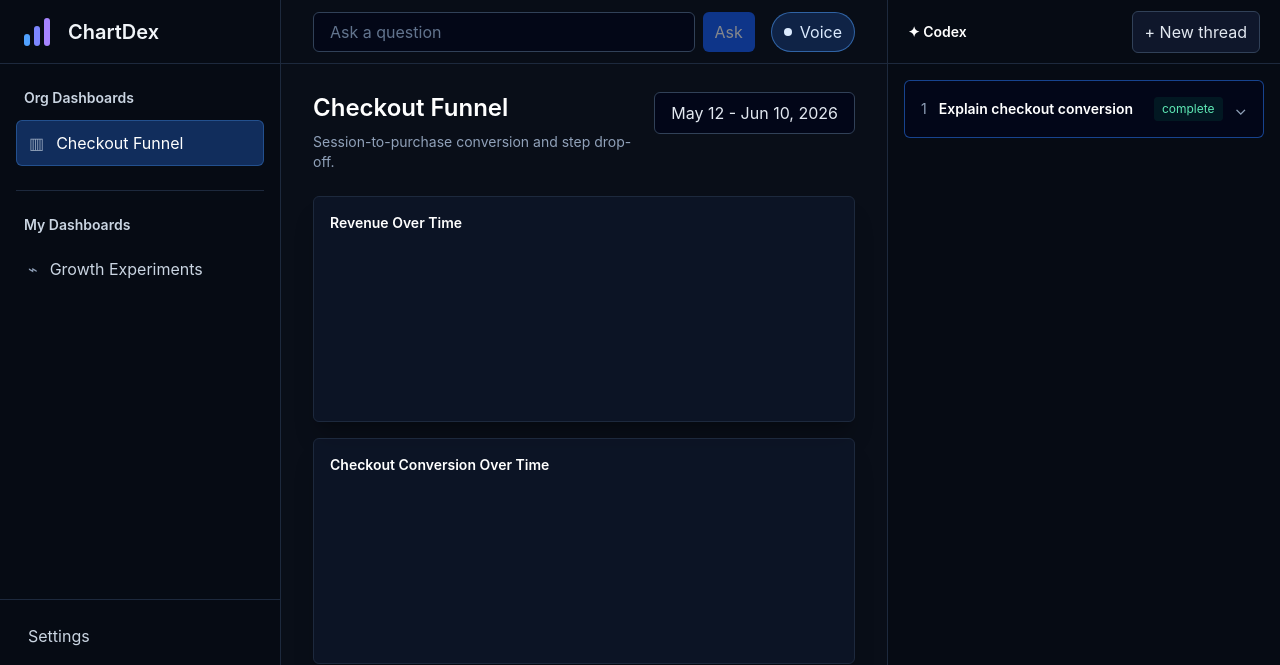
Test: App › renders the authenticated dashboard shell with Codex threads closed by default
Check: the heading "Checkout Funnel" is shown, box [313,93,508,122]
Check: the heading "Org Dashboards" is shown, box [24,89,134,106]
Step 1. Click the button "1 Explain checkout conversion complete ⌄" → point(1084, 109), box [905,81,1263,137]
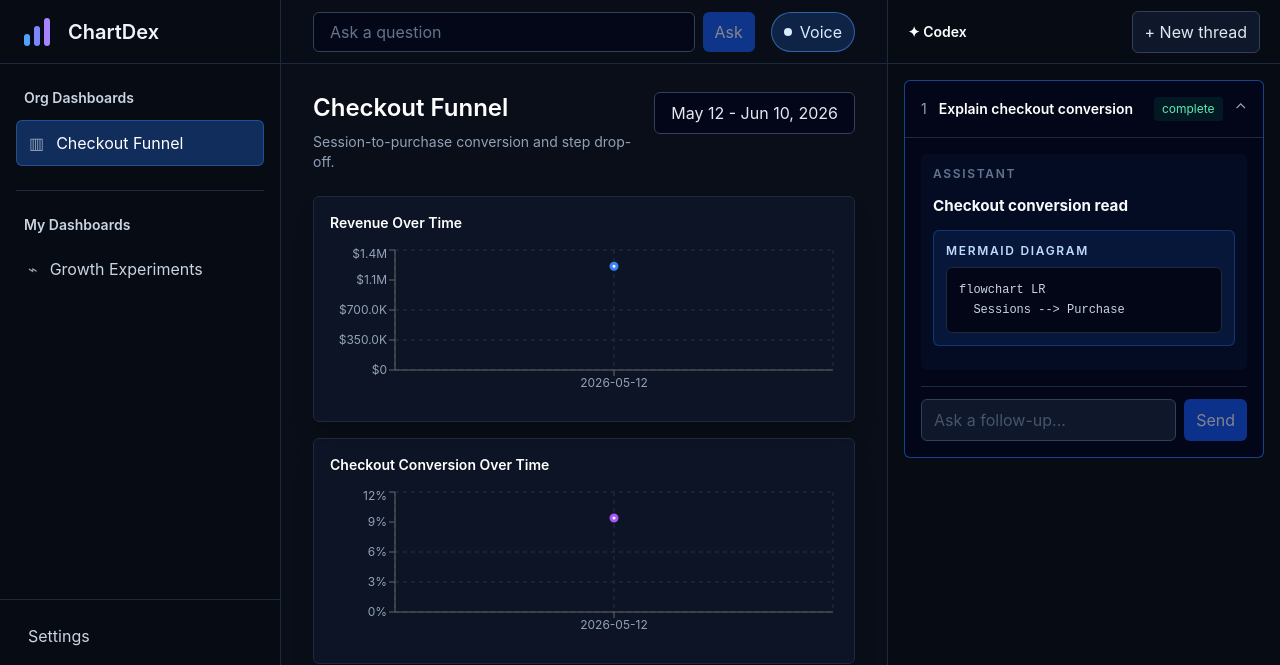
Check: the heading "Checkout conversion read" is shown, box [933,196,1128,215]
Check: the text "Mermaid diagram" is shown, box [946,243,1089,258]
